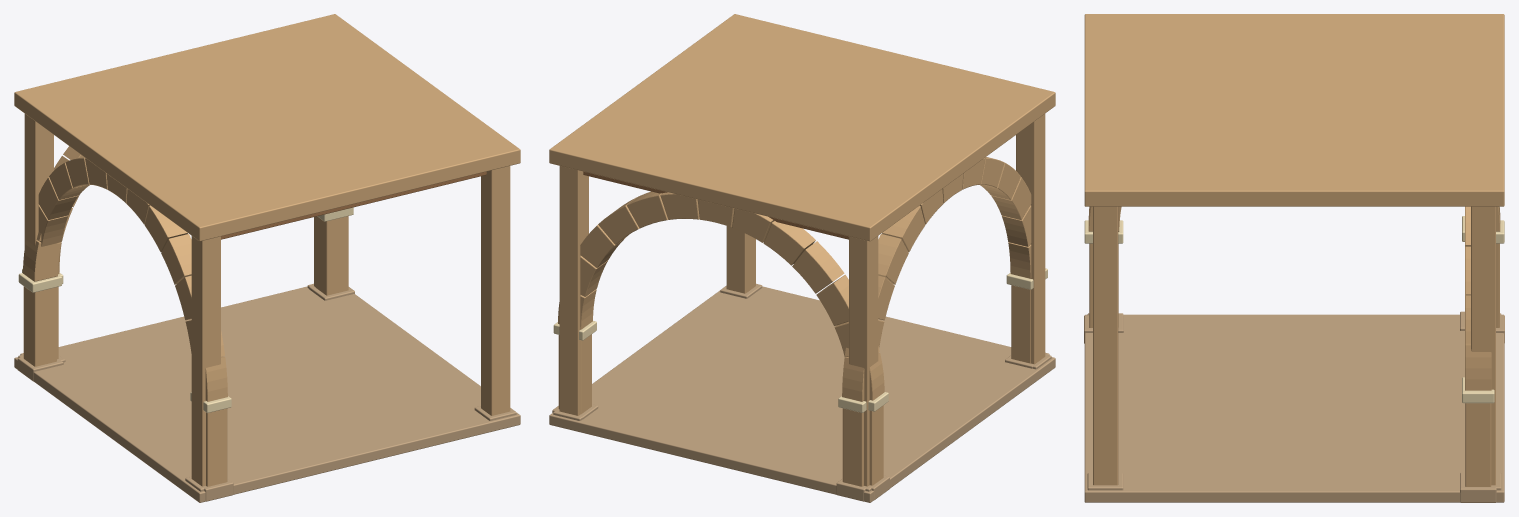
Rendered from desert-caravanserai-and-bazaar-courtyard-arcade-corner-b01d4a46__30444.glb.
3 renders of one model, left to right at view 1: azimuth 30°, elevation 25°; view 2: azimuth 150°, elevation 25°; view 3: azimuth 270°, elevation 25°, orthographic. The views are drawn at different scales.
Parts seen in each view (by area): view 1: courtyard-arcade-corner; view 2: courtyard-arcade-corner; view 3: courtyard-arcade-corner.
Boxes of the visible parts, x1,y1,x2,y2 form: courtyard-arcade-corner: (14,14,520,502); courtyard-arcade-corner: (549,14,1055,502); courtyard-arcade-corner: (1084,14,1504,502).
Bounding box in the file's own units: 4.01 × 3.28 × 4.01.
